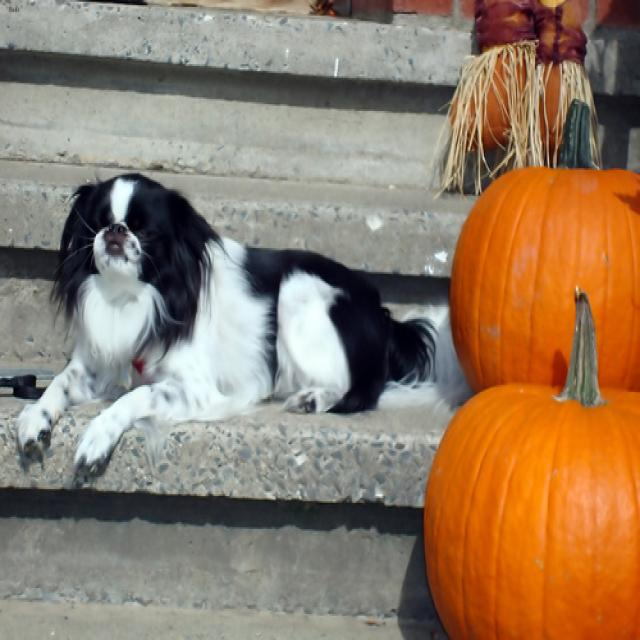dog-japanese_chin: (9, 163, 444, 486)
